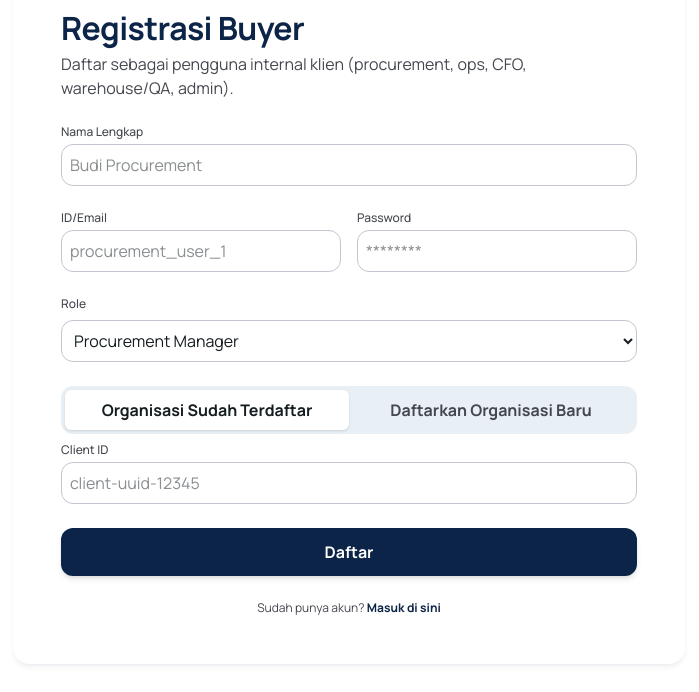
Test: BuyerRegisterPage › requires Nama Perusahaan instead of Client ID when registering a new organization
Click the button "Daftarkan Organisasi Baru".
click(491, 410)  # box [349, 390, 633, 430]
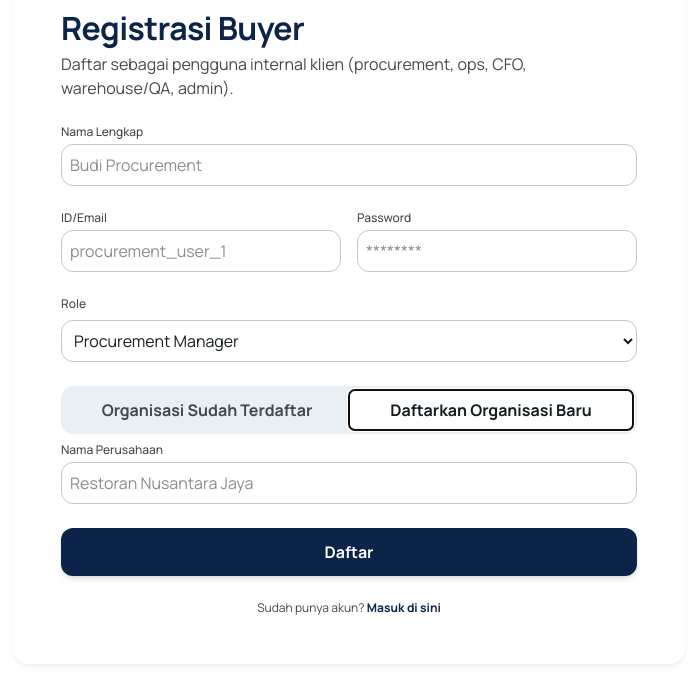
Click the button "Daftar".
click(349, 552)  # box [61, 528, 637, 576]
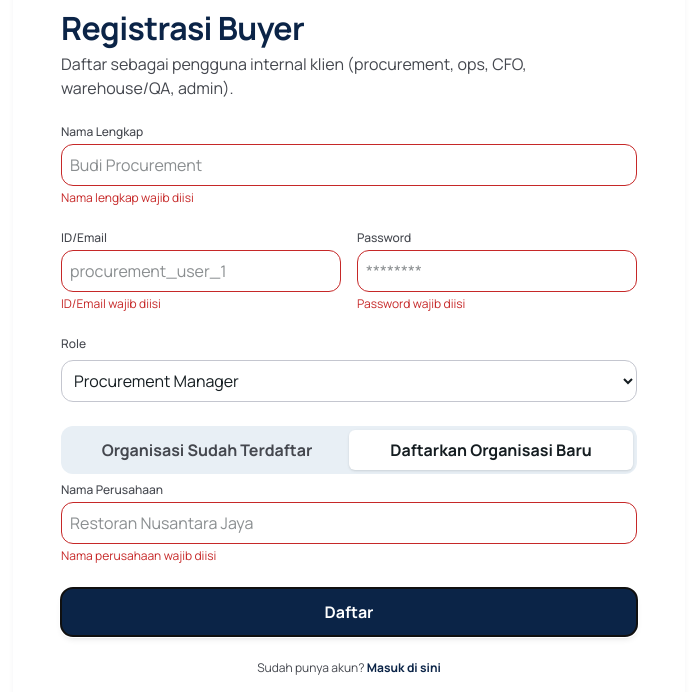
Result: the text "Nama perusahaan wajib diisi" is shown at [61, 547, 216, 564]
